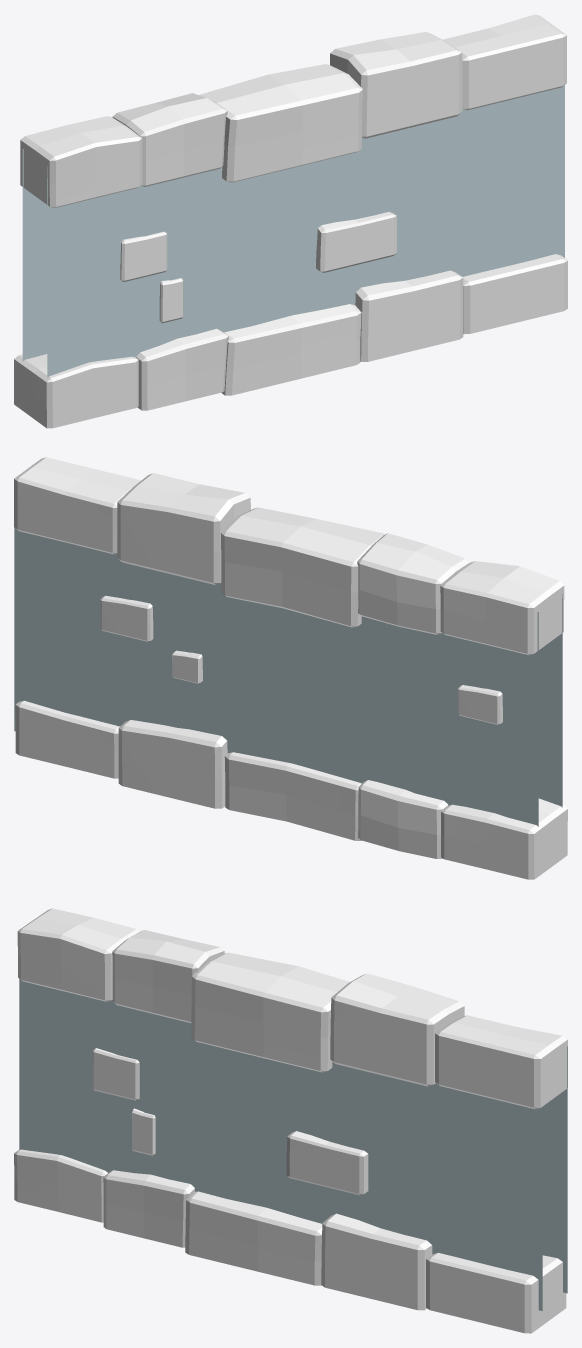
Rendered from wall4444.glb.
3 views of the same model, one above another, from view 1: azimuth 30°, elevation 25°; view 2: azimuth 150°, elevation 25°; view 3: azimuth 330°, elevation 25° (orthographic).
Parts seen in each view (by area): view 1: wall4; view 2: wall4; view 3: wall4.
Boxes of the visible parts, <box> form: wall4: <box>14,14,567,428</box>; wall4: <box>14,457,567,879</box>; wall4: <box>14,908,567,1333</box>.
Bounding box in the file's own units: 0.1005 × 0.0535 × 0.0141.
1 material, 1 textured.
